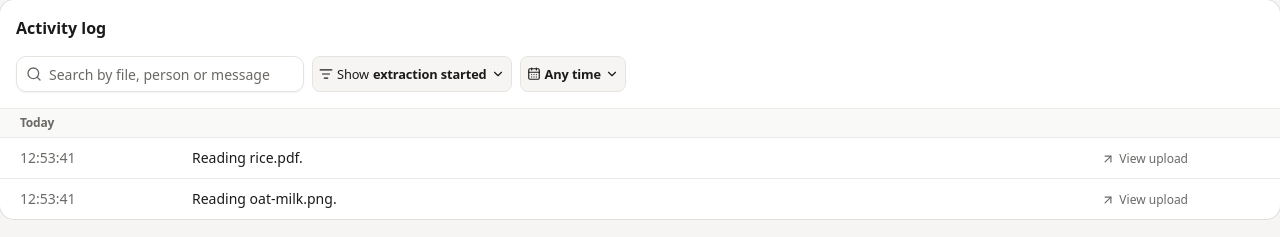
ActivityLog › searches once typing pauses, keeping the other filters
Expected: the text "Reading rice.pdf." is shown, x1=192 y1=148 x2=303 y2=167
In the search field named "Search the activity log": [160, 74] box x1=16 y1=56 x2=304 y2=92, type " oat milk "
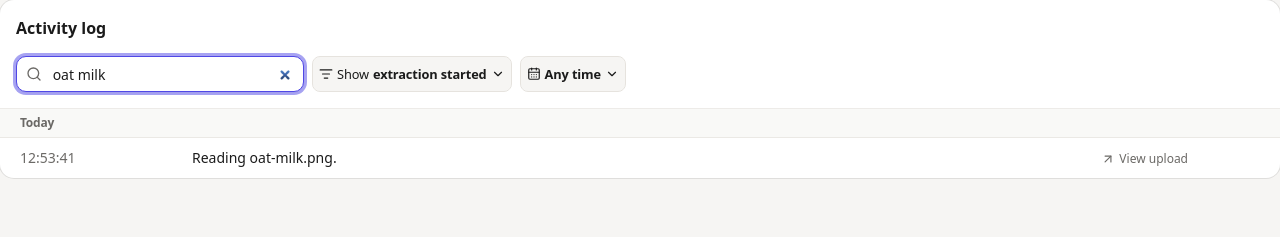
Expected: the text "Reading oat-milk.png." is shown, x1=192 y1=148 x2=337 y2=167
Expected: the text "Reading rice.pdf." is gone
